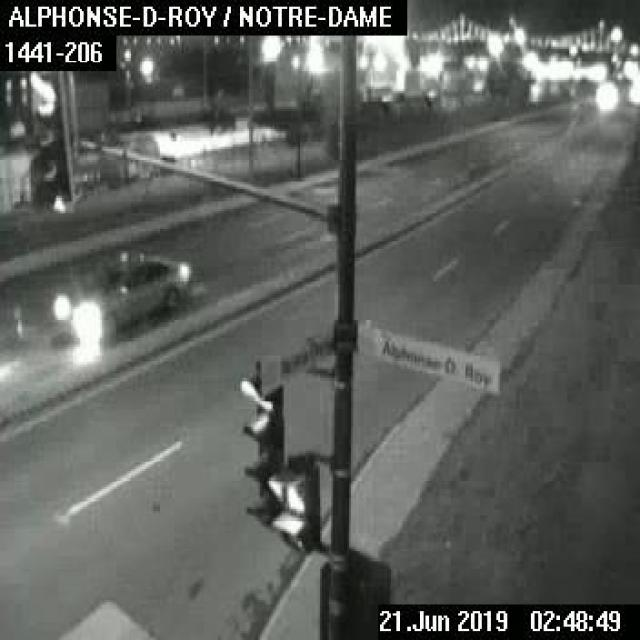vehicle: (52, 244, 194, 349)
